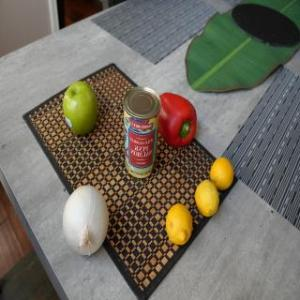bell_pepper: (161, 90, 197, 144)
onion: (64, 186, 109, 260)
